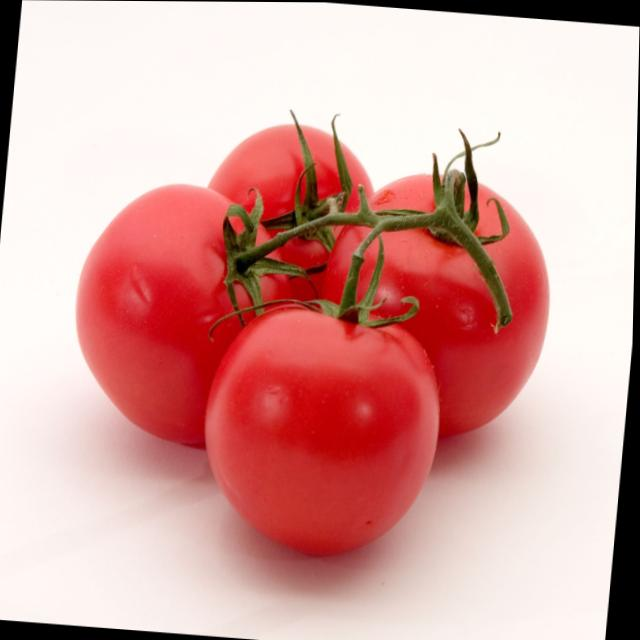tomato: (196, 301, 450, 562), (65, 177, 300, 453), (363, 175, 560, 445), (206, 108, 379, 244), (323, 225, 371, 301), (368, 172, 435, 211)
